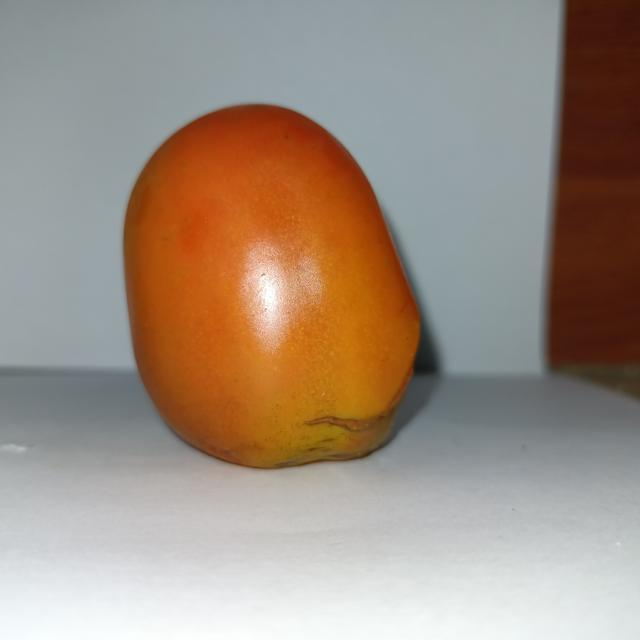Red: (120, 101, 422, 469)
